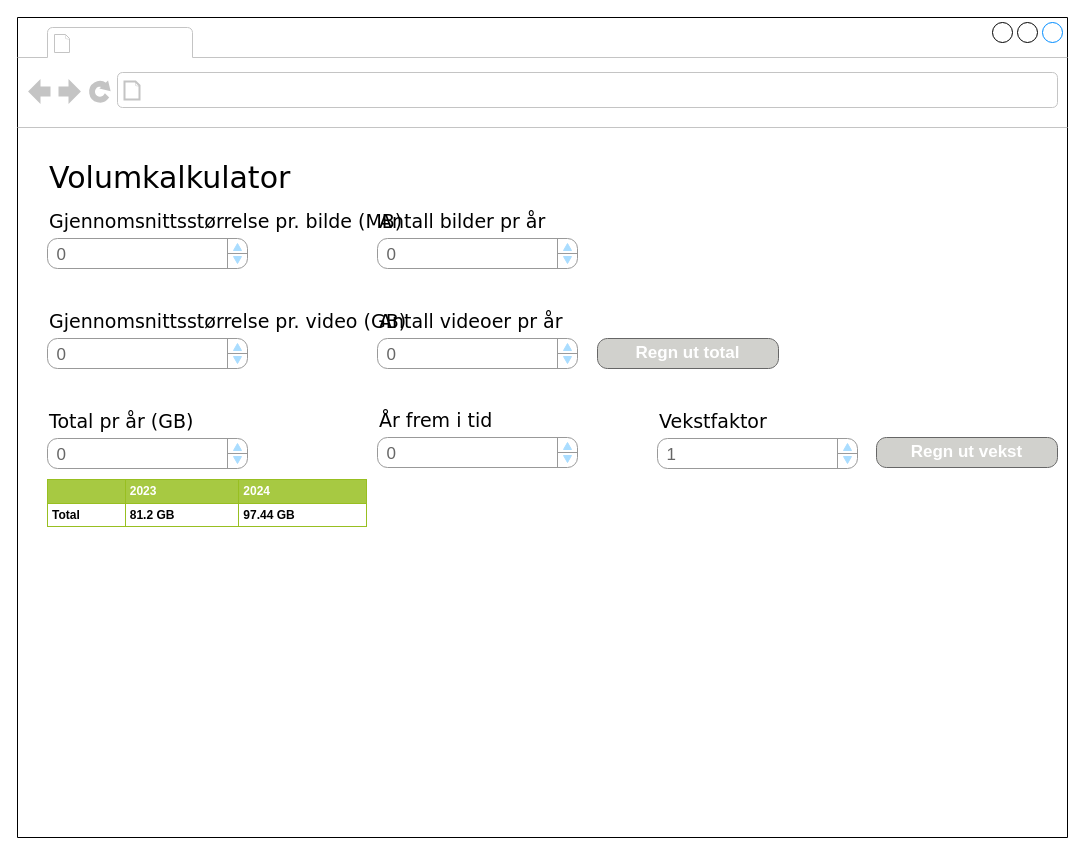
Image size: 1085x855. Some labels were removed from this diagram. Each missing label, with the centre of its shape:
https://www.volumkalkulator.no: the point at 272,90
Page 1: the point at 132,42
